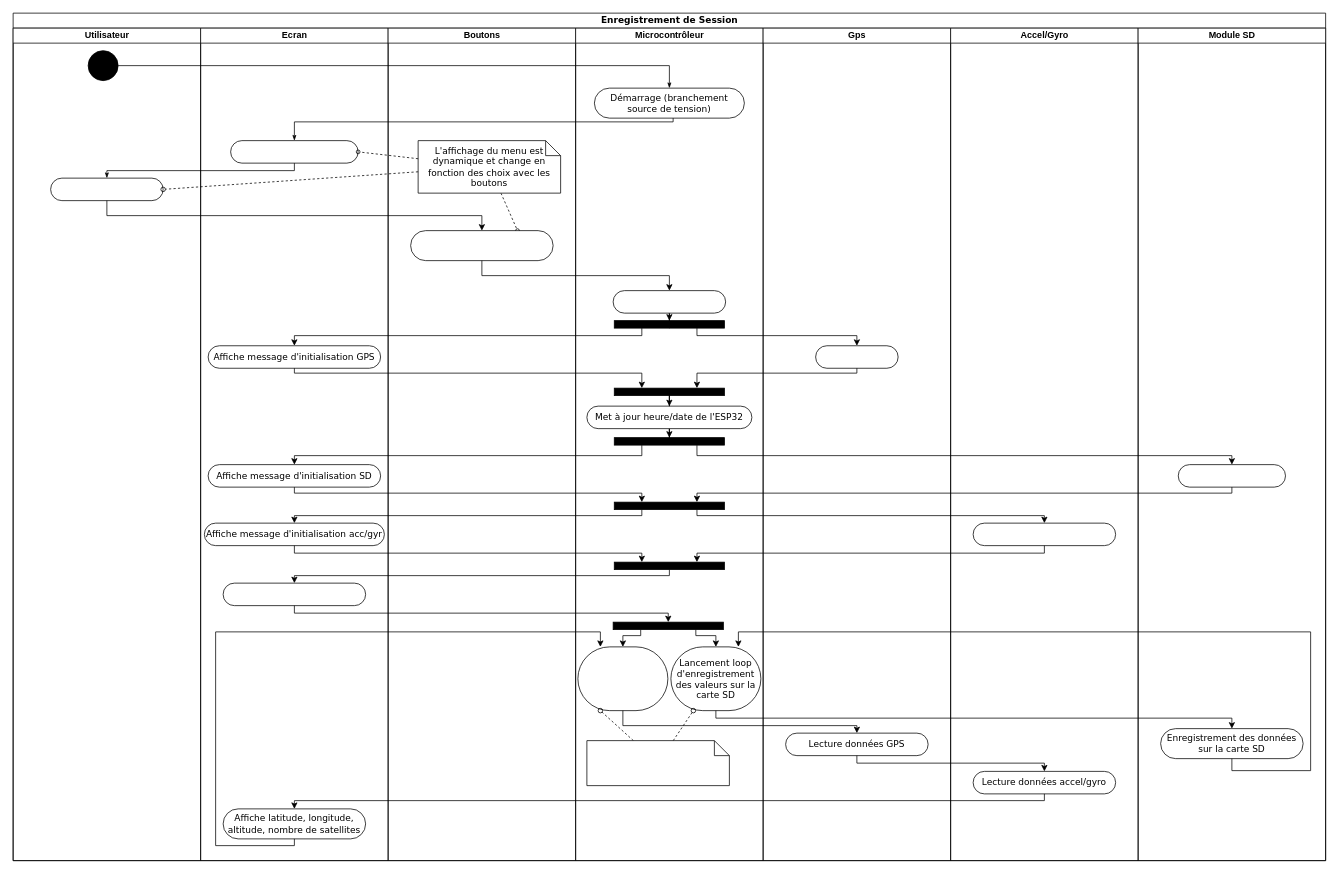
This 1339x874 diagram has some shape labels left out. Each missing label, with the centre of its shape:
Affichage menu lancement: the point at 294,151
Affiche message lancement: the point at 294,594
Choisit le mode enregistrement de session: the point at 481,245
Initialise et calibre accel/gyro: the point at 1044,534
Initialise le GPS: the point at 856,356
Initialise le module SD: the point at 1232,475
Lance l'enregistrement: the point at 669,301
Lancement loop de lecture des capteurs et affichage LCD: the point at 622,678
Les loops s'exécutent tant que l'ESP32 est sous tension: the point at 657,763
Vérifie l'affichage: the point at 106,189
